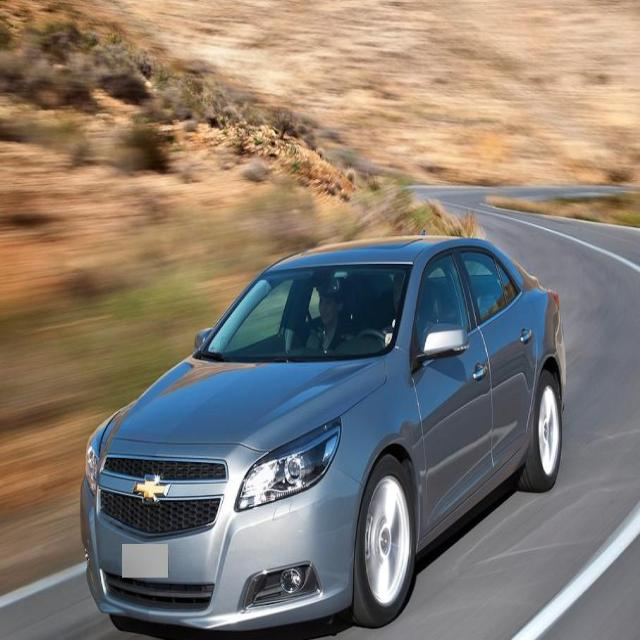door: (458, 243, 540, 463)
front_bumper: (79, 466, 365, 630)
front_glass: (202, 262, 412, 361)
front_left_side_light: (83, 442, 100, 496)
front_left_side_mirror: (194, 328, 213, 352)
front_right_side_door: (408, 245, 497, 537)
front_right_side_light: (234, 413, 343, 513)
front_right_side_mirror: (420, 320, 470, 368)
wheel: (351, 456, 414, 623), (518, 371, 562, 491)
